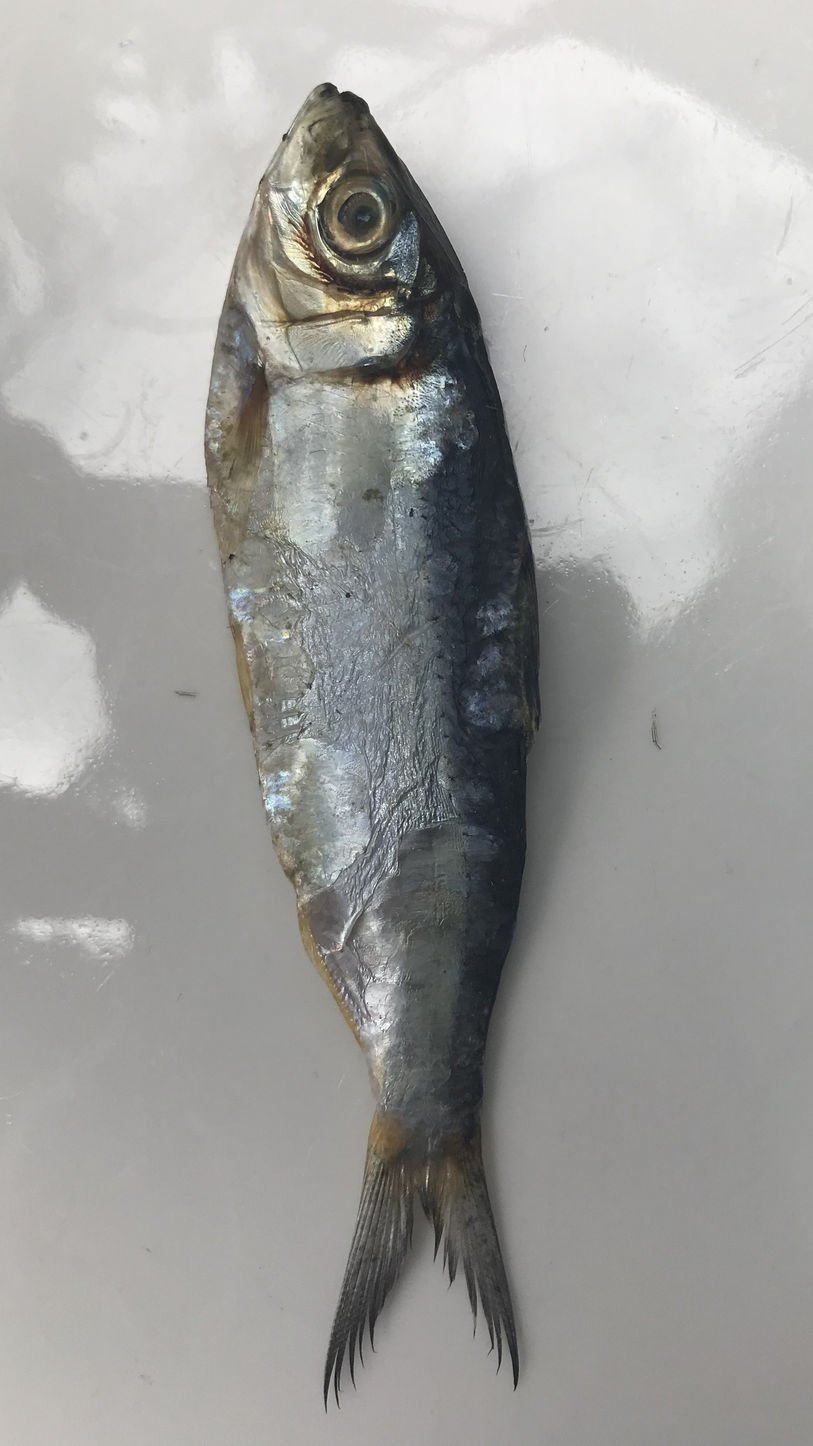tamban_dried_: (204, 82, 617, 1413)
